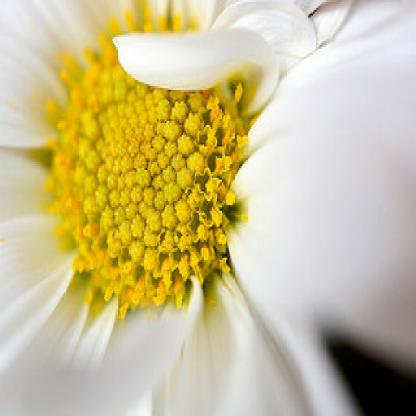ASTER: (12, 5, 406, 393)
